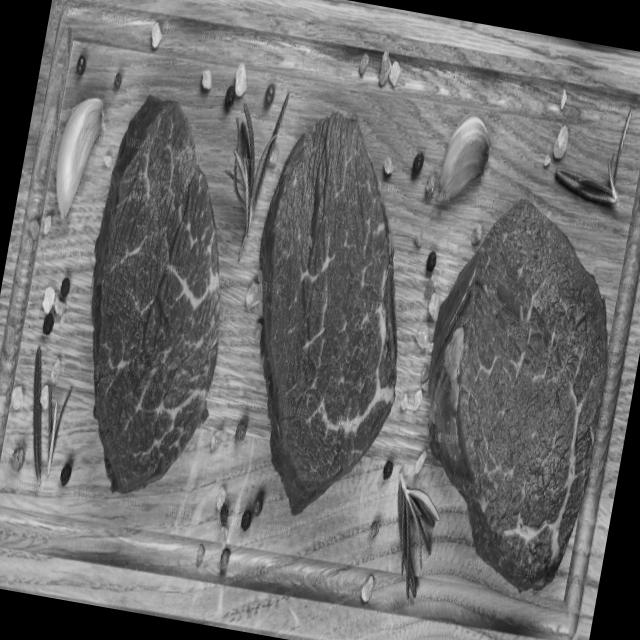beef tenderloin steak: (216, 95, 439, 522), (405, 189, 634, 567), (55, 97, 255, 500)
